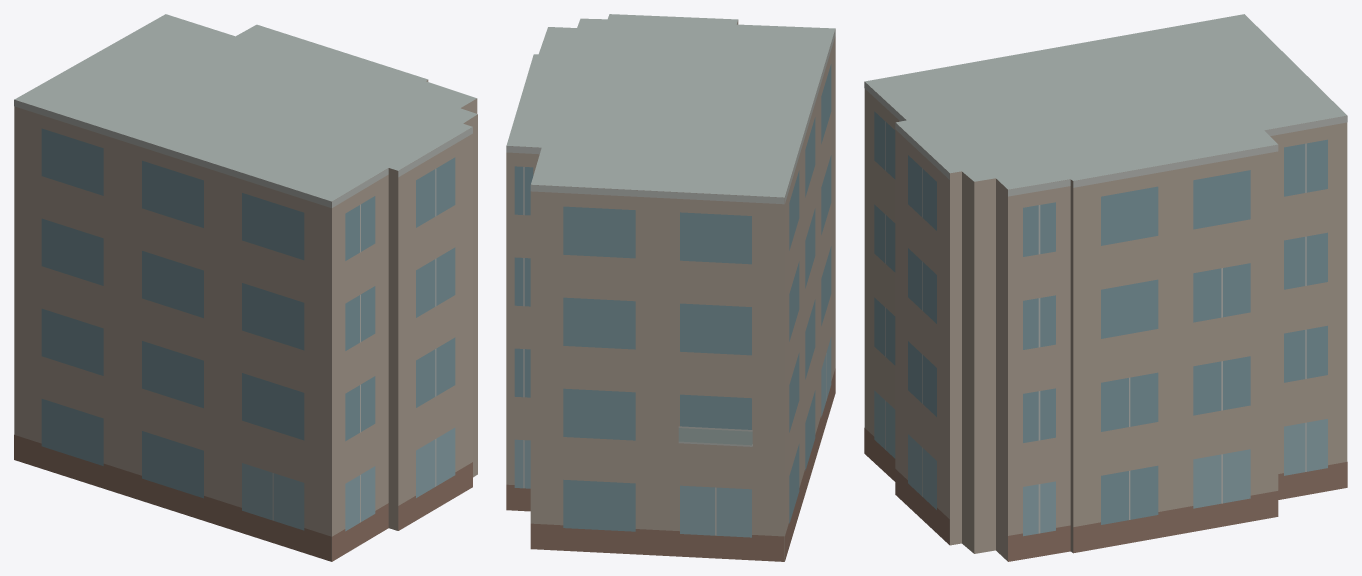
The model's file is survey-upis-32689674.glb.
3 renders of one model, left to right at view 1: azimuth 30°, elevation 25°; view 2: azimuth 150°, elevation 25°; view 3: azimuth 270°, elevation 25°, orthographic. The views are drawn at different scales.
Parts seen in each view (by area): view 1: survey-upis-32689674.tmp; view 2: survey-upis-32689674.tmp; view 3: survey-upis-32689674.tmp.
Part boxes in pixels (bbox=[...]): survey-upis-32689674.tmp: bbox=[14, 14, 477, 561]; survey-upis-32689674.tmp: bbox=[506, 14, 835, 561]; survey-upis-32689674.tmp: bbox=[864, 14, 1347, 561].
Bounding box in the file's own units: 13.37 × 13.2 × 15.53.
